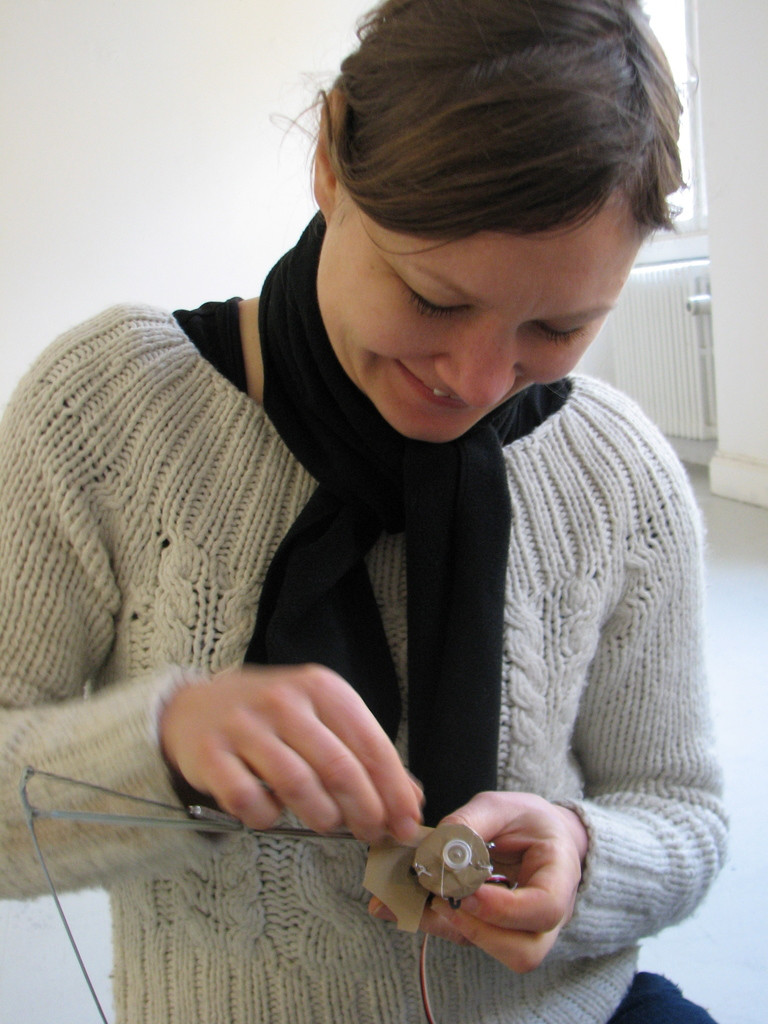Person: (0, 0, 731, 1024)
